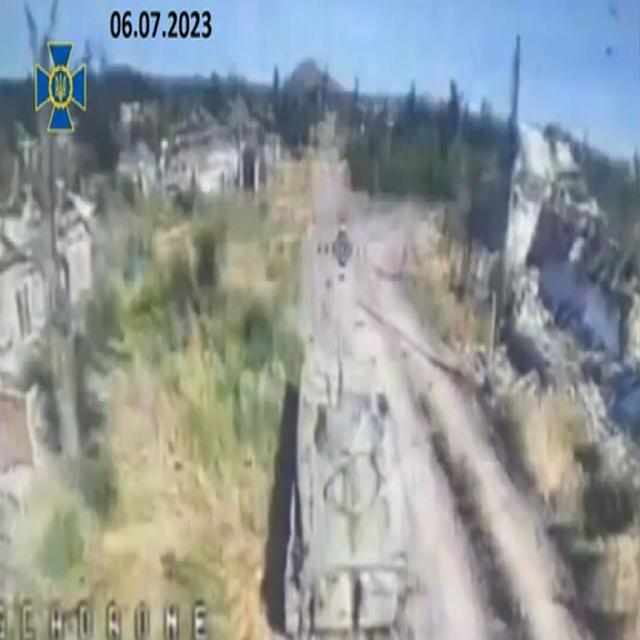APC-IFV: (274, 336, 411, 634)
